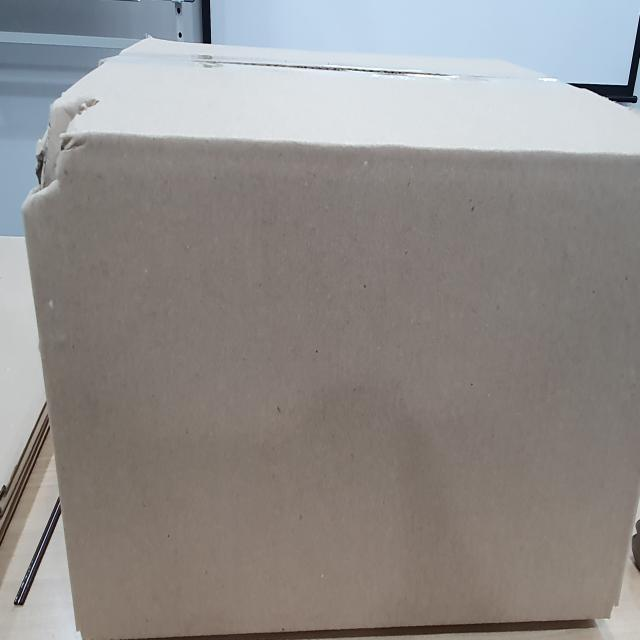hole: (27, 105, 100, 199)
